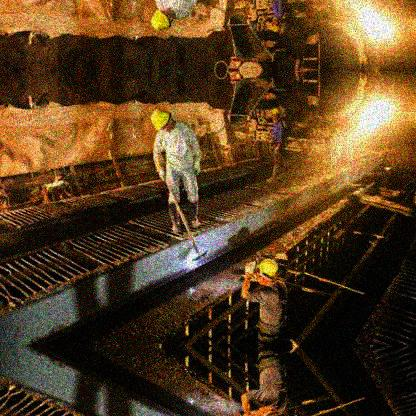helmet: (257, 257, 279, 288), (151, 5, 175, 33), (151, 110, 175, 133), (272, 18, 281, 33), (271, 107, 280, 122)
